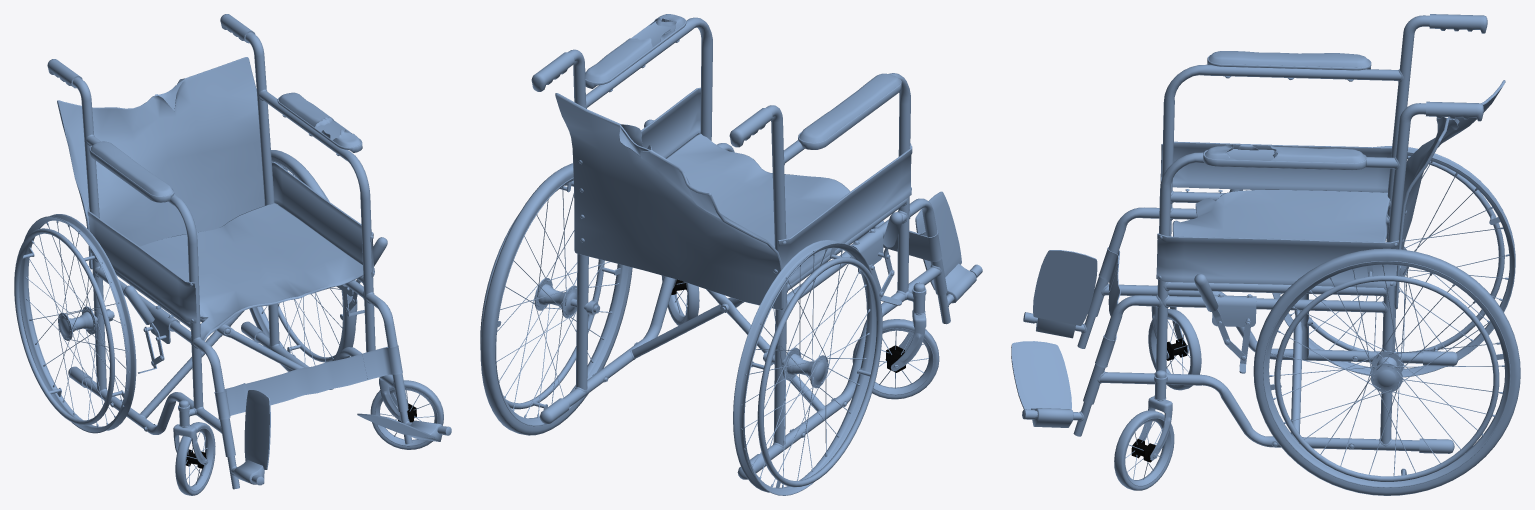
Rendered from wheelchair_LP.fbx.
3 renders of one model, left to right at view 1: azimuth 30°, elevation 25°; view 2: azimuth 150°, elevation 25°; view 3: azimuth 270°, elevation 25°, orthographic. The views are drawn at different scales.
Parts seen in each view (by area): view 1: Spinka_mesh_lp, carcas_mesh_lp, seat_mesh_lp, back whell_mesh_lp, side walls_mesh_lp, footrest up_mesh_lp, armrest_mesh_lp, front whell_mesh_lp, footrest_mesh_lp, bracing_mesh_lp, front mech_mesh_lp, handle_mesh_lp; view 2: back whell_mesh_lp, Spinka_mesh_lp, carcas_mesh_lp, seat_mesh_lp, side walls_mesh_lp, armrest_mesh_lp, front whell_mesh_lp, footrest_mesh_lp, bracing_mesh_lp, handle_mesh_lp, footrest up_mesh_lp, front mech_mesh_lp; view 3: back whell_mesh_lp, carcas_mesh_lp, side walls_mesh_lp, seat_mesh_lp, footrest_mesh_lp, armrest_mesh_lp, front whell_mesh_lp, Spinka_mesh_lp, bracing_mesh_lp, handle_mesh_lp, footrest up_mesh_lp, front mech_mesh_lp.
Part boxes in pixels (left/top/right/bottom): Spinka_mesh_lp: left=57, top=57, right=264, bottom=269; carcas_mesh_lp: left=68, top=32, right=451, bottom=489; seat_mesh_lp: left=140, top=203, right=363, bottom=341; back whell_mesh_lp: left=14, top=150, right=357, bottom=433; side walls_mesh_lp: left=87, top=161, right=374, bottom=323; footrest up_mesh_lp: left=214, top=345, right=402, bottom=419; armrest_mesh_lp: left=89, top=92, right=362, bottom=202; front whell_mesh_lp: left=175, top=380, right=443, bottom=495; footrest_mesh_lp: left=233, top=390, right=442, bottom=484; bracing_mesh_lp: left=124, top=237, right=387, bottom=373; front mech_mesh_lp: left=173, top=374, right=409, bottom=465; handle_mesh_lp: left=47, top=14, right=255, bottom=88; back whell_mesh_lp: left=480, top=163, right=882, bottom=495; Spinka_mesh_lp: left=555, top=93, right=783, bottom=310; carcas_mesh_lp: left=540, top=17, right=982, bottom=479; seat_mesh_lp: left=666, top=133, right=884, bottom=247; side walls_mesh_lp: left=641, top=87, right=912, bottom=284; armrest_mesh_lp: left=585, top=14, right=901, bottom=149; front whell_mesh_lp: left=661, top=275, right=939, bottom=399; footrest_mesh_lp: left=915, top=191, right=976, bottom=303; bracing_mesh_lp: left=644, top=119, right=902, bottom=305; handle_mesh_lp: left=531, top=52, right=772, bottom=147; footrest up_mesh_lp: left=857, top=227, right=942, bottom=261; front mech_mesh_lp: left=673, top=279, right=926, bottom=371; back whell_mesh_lp: left=1253, top=146, right=1520, bottom=495; carcas_mesh_lp: left=1022, top=15, right=1458, bottom=453; side walls_mesh_lp: left=1156, top=141, right=1398, bottom=287; seat_mesh_lp: left=1172, top=189, right=1390, bottom=242; footrest_mesh_lp: left=1011, top=250, right=1097, bottom=427; armrest_mesh_lp: left=1203, top=51, right=1371, bottom=170; front whell_mesh_lp: left=1114, top=309, right=1201, bottom=490; Spinka_mesh_lp: left=1394, top=80, right=1505, bottom=309; bracing_mesh_lp: left=1194, top=189, right=1256, bottom=373; handle_mesh_lp: left=1426, top=14, right=1487, bottom=121; footrest up_mesh_lp: left=1095, top=247, right=1120, bottom=367; front mech_mesh_lp: left=1138, top=306, right=1188, bottom=460.
Bounding box in the file's own units: 0.7367 × 1.12 × 0.9098.
